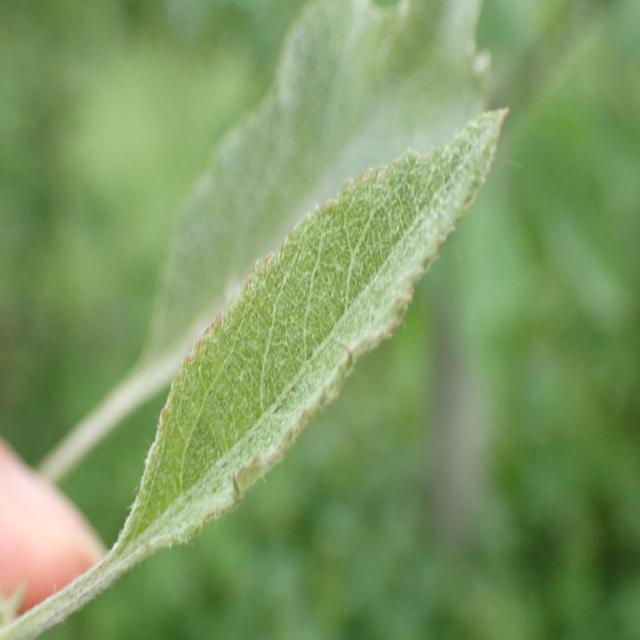Powdery_mildew: (97, 108, 508, 563)
